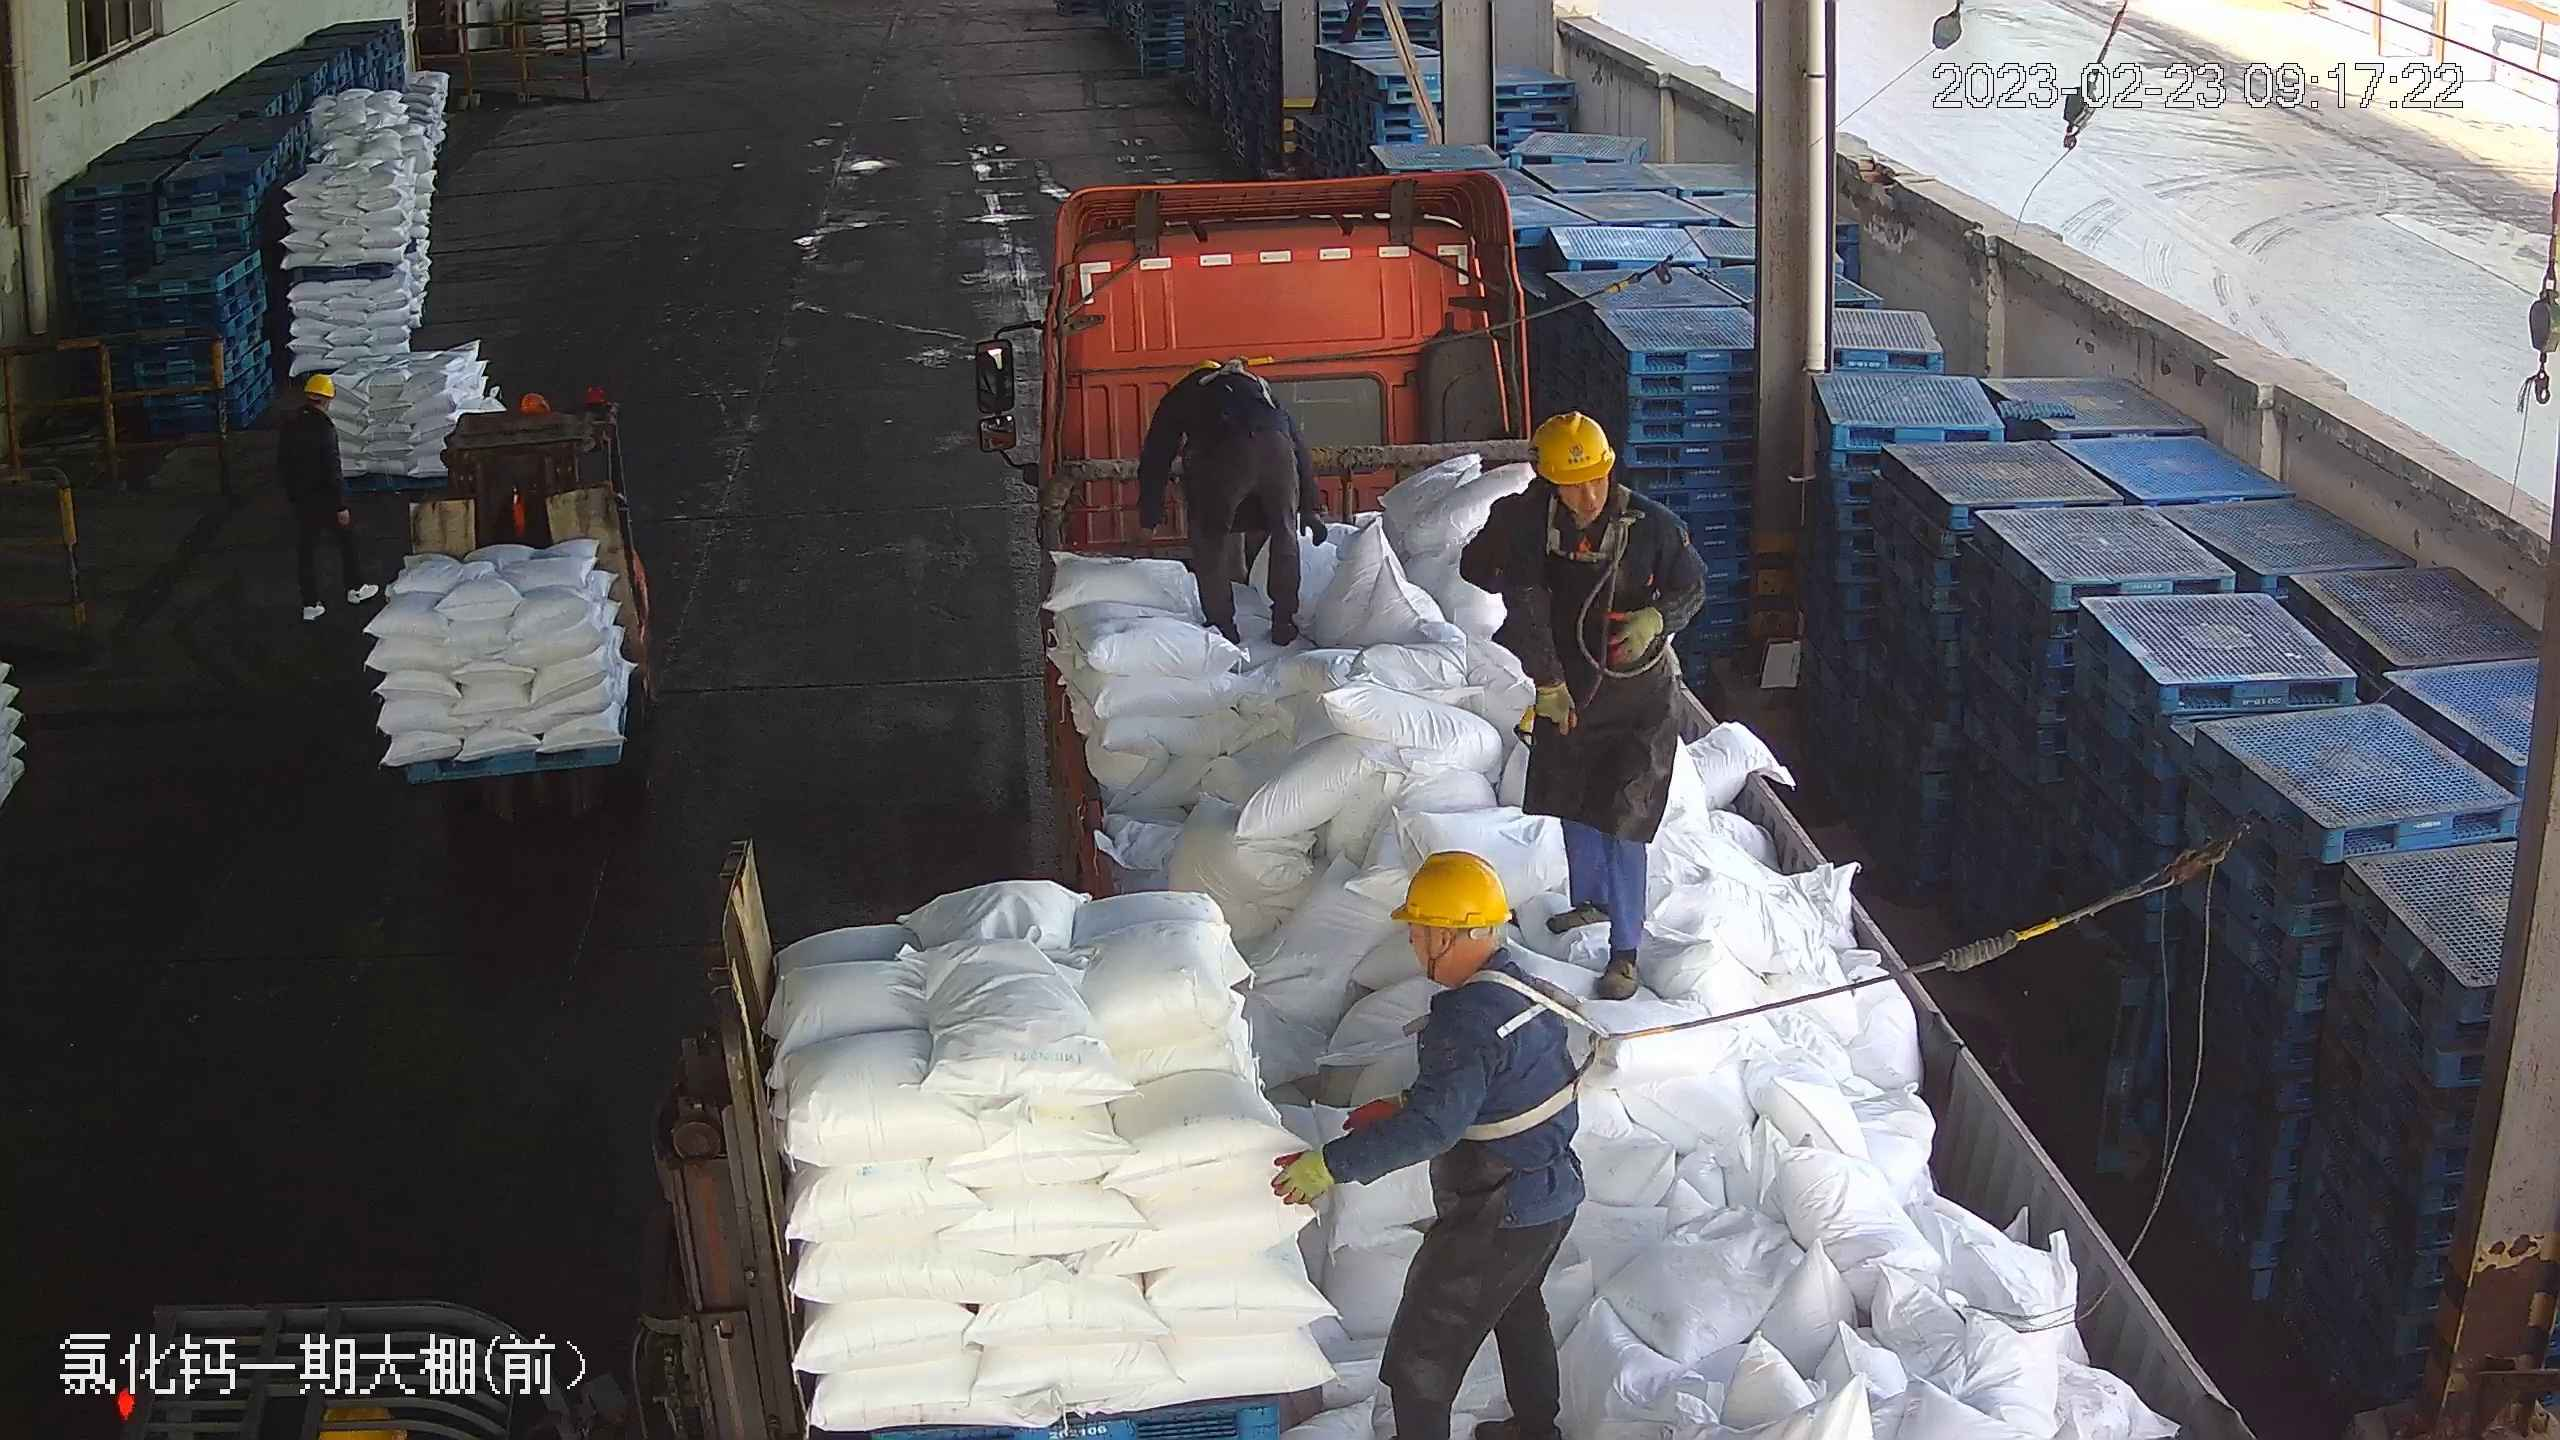belt: (1460, 971, 1656, 1133), (1538, 480, 1638, 576), (1184, 353, 1267, 413)
head: (1373, 849, 1569, 1077), (1506, 409, 1677, 571), (279, 368, 345, 448)
helmet: (1387, 848, 1511, 928), (1529, 408, 1615, 483), (298, 370, 337, 396)
people: (1288, 847, 1593, 1439), (1484, 409, 1704, 995), (1132, 355, 1318, 654), (276, 370, 369, 628)
truck: (991, 153, 2245, 1440), (1477, 416, 1703, 996)
